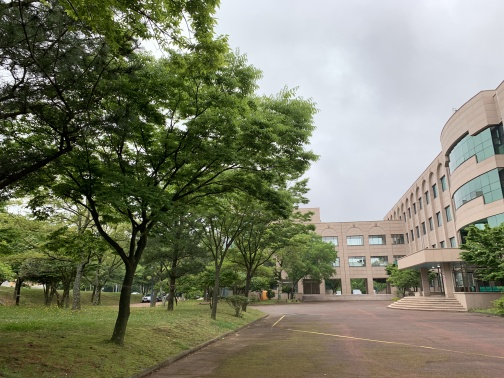Natural Science2: (373, 70, 504, 319)
